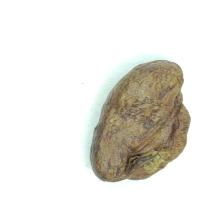NG: (127, 60, 191, 175)
